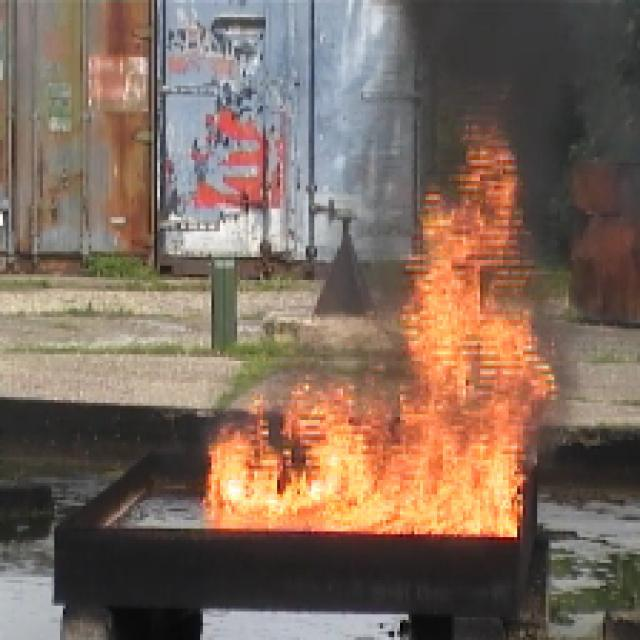Fire: (212, 414, 520, 536), (424, 184, 517, 406)
Smoke: (433, 5, 560, 114)
